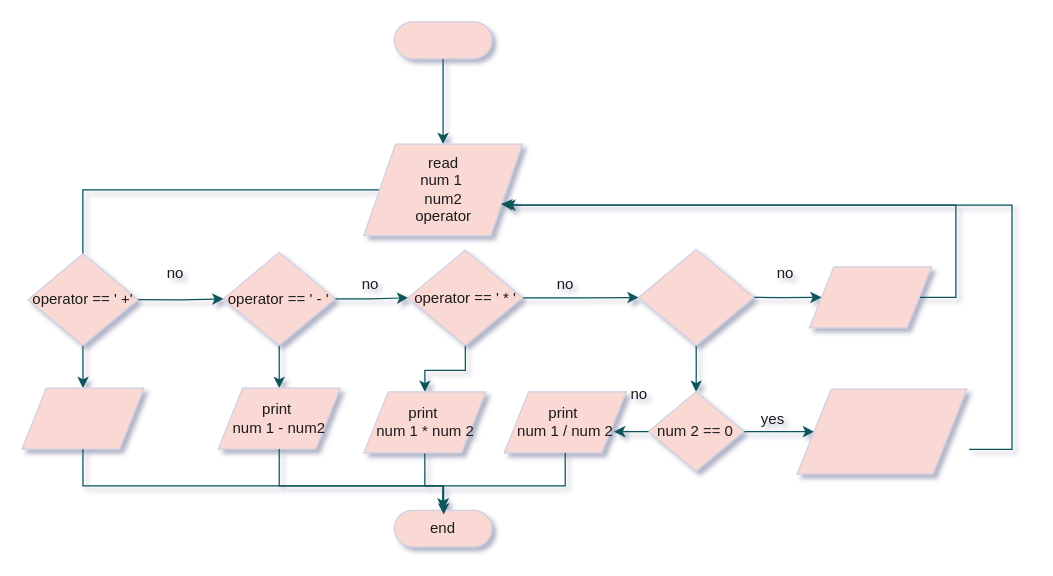
Some shapes in this 1053 by 576 pixel diagram are drawn without their labels. Here are the shapes that lost their labels. From the top down, the centre of each, then its label:
(x=442, y=39): start
(x=695, y=297): operator == ' / '
(x=870, y=297): print " not valid operator , try again "
(x=82, y=418): print num1 + num 2
(x=881, y=431): print " can't be divided by zero , try again "
